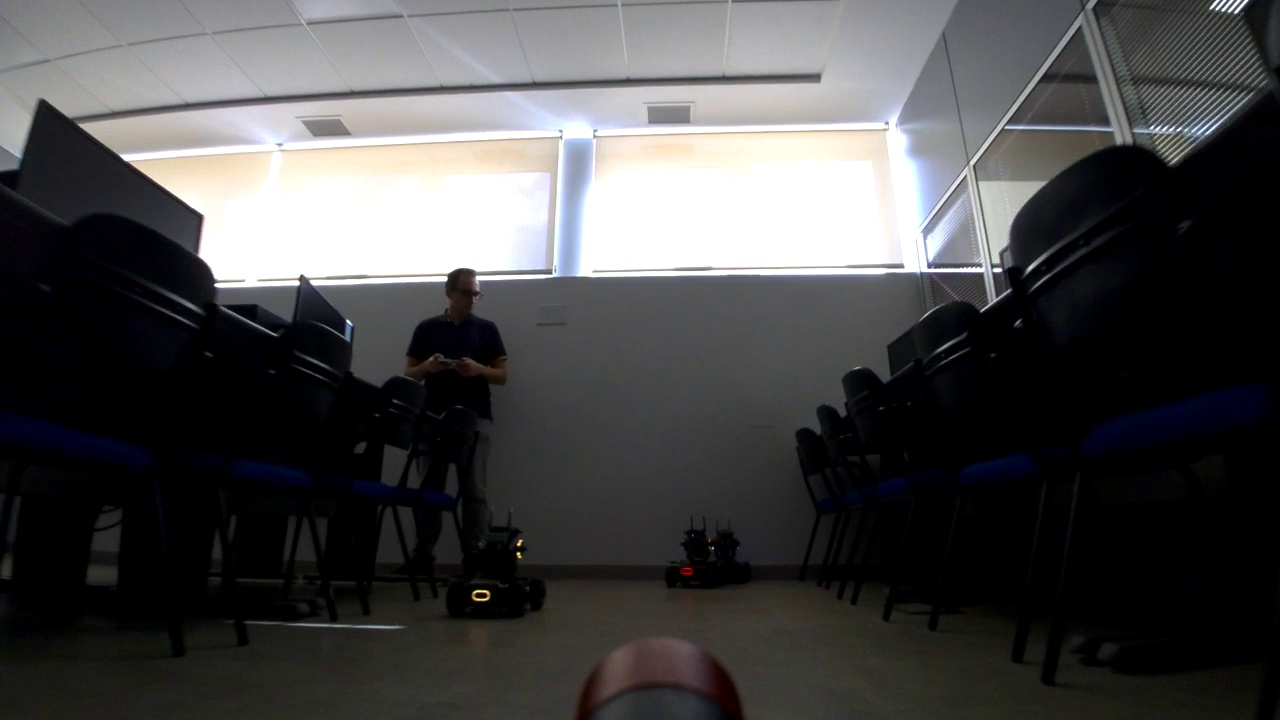robot: (444, 504, 546, 617), (662, 514, 723, 586), (702, 519, 752, 584)
